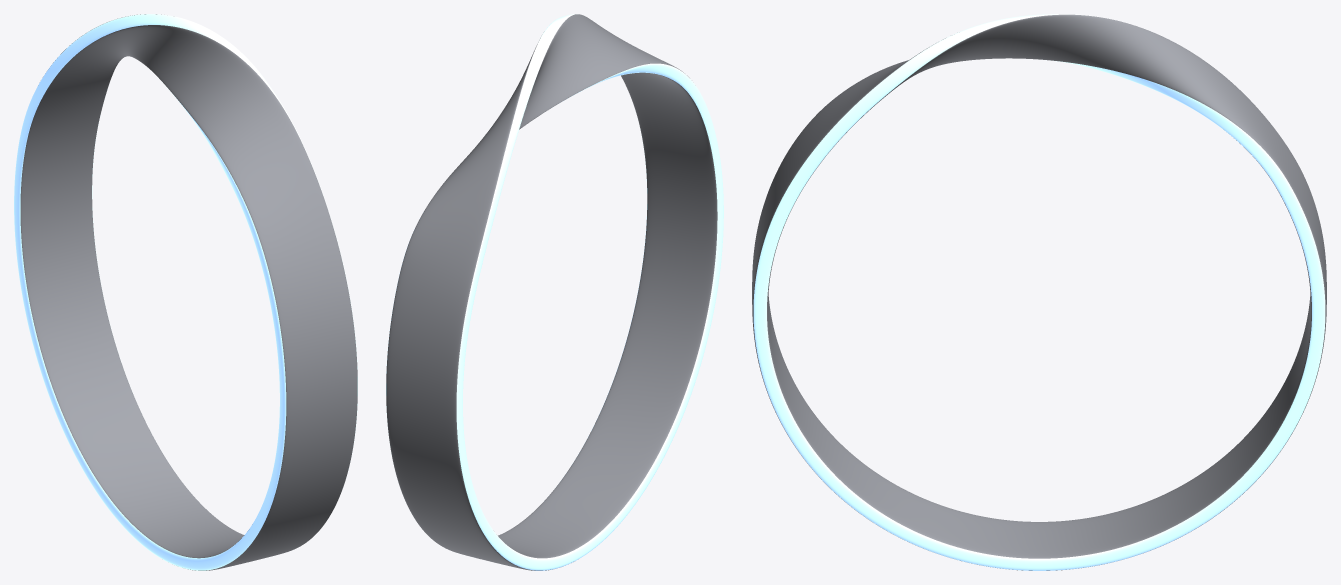
File: mobius.glb
3 views of the same model, side by side, from view 1: azimuth 30°, elevation 25°; view 2: azimuth 150°, elevation 25°; view 3: azimuth 270°, elevation 25° (orthographic). The views are drawn at different scales.
Parts seen in each view (by area): view 1: Circle_0; view 2: Circle_0; view 3: Circle_0.
Boxes of the visible parts, x1,y1,x2,y2 form: Circle_0: (14,14,357,570); Circle_0: (386,14,723,570); Circle_0: (752,14,1326,570).
Size of the model in its own units: 0.3097 by 2.07 by 1.99.
